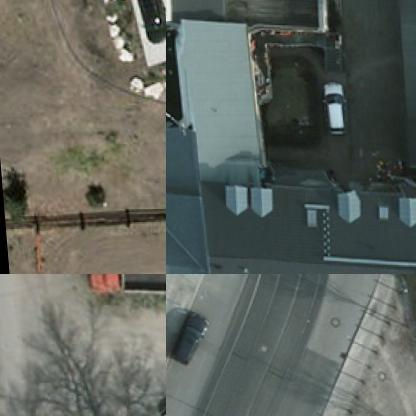car: (169, 310, 212, 362), (320, 79, 350, 134), (138, 0, 165, 42)
truck: (83, 274, 165, 295)
